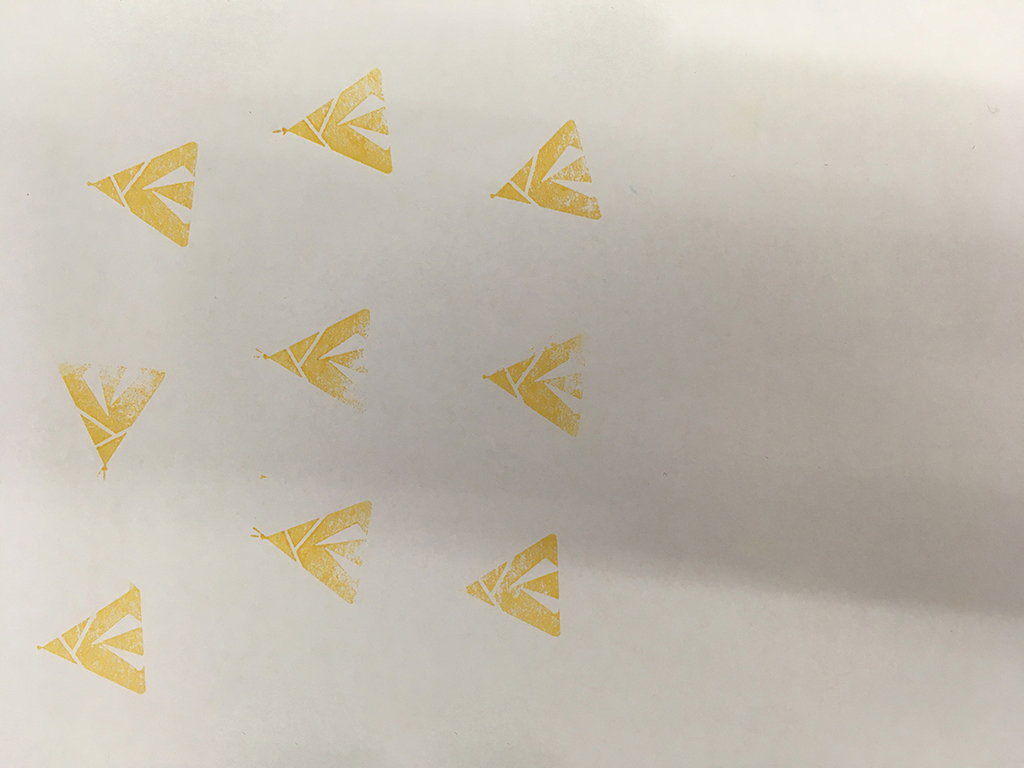tent: (241, 491, 385, 617), (46, 346, 170, 489), (239, 296, 378, 418), (483, 108, 613, 229), (76, 132, 201, 254), (30, 580, 157, 700), (271, 62, 400, 180), (443, 528, 573, 641), (469, 323, 587, 442)
